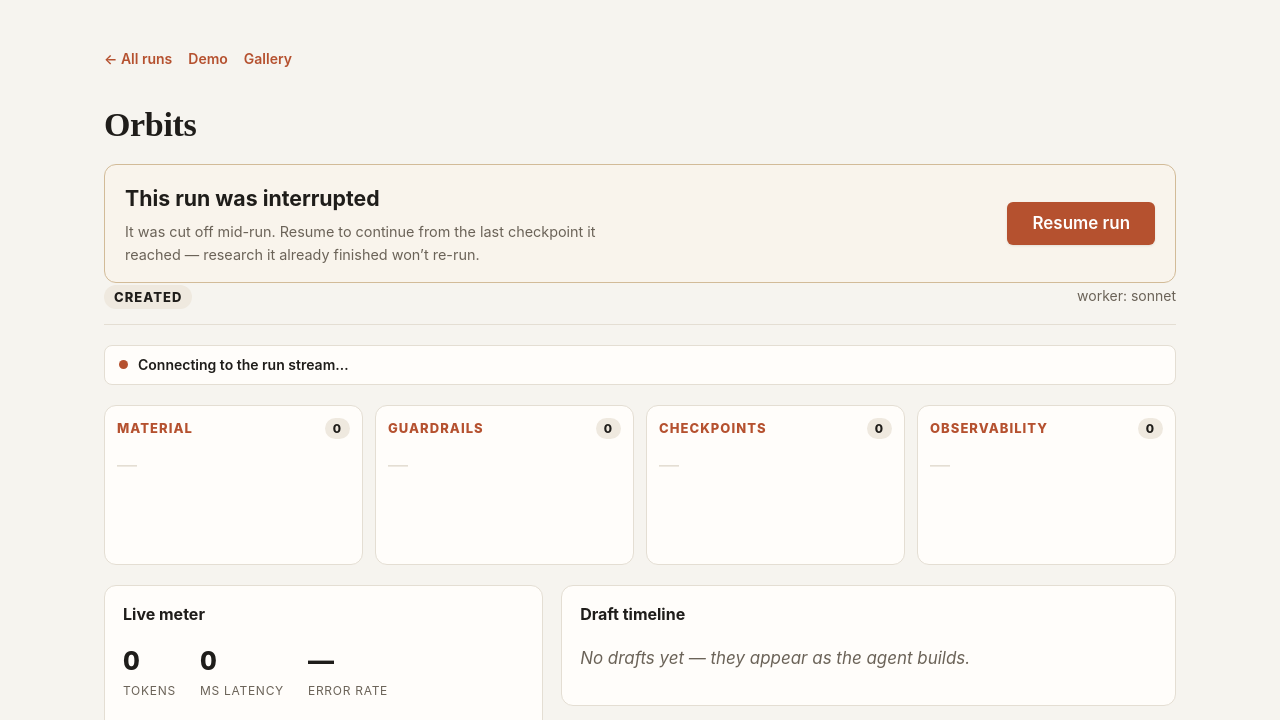
RunDetailPage › should offer Resume for an interrupted run and POST resume on click (publisher-kgv)
The image size is (1280, 720).
Click the button "Resume run" at (1081, 224), box x1=1008 y1=202 x2=1155 y2=245
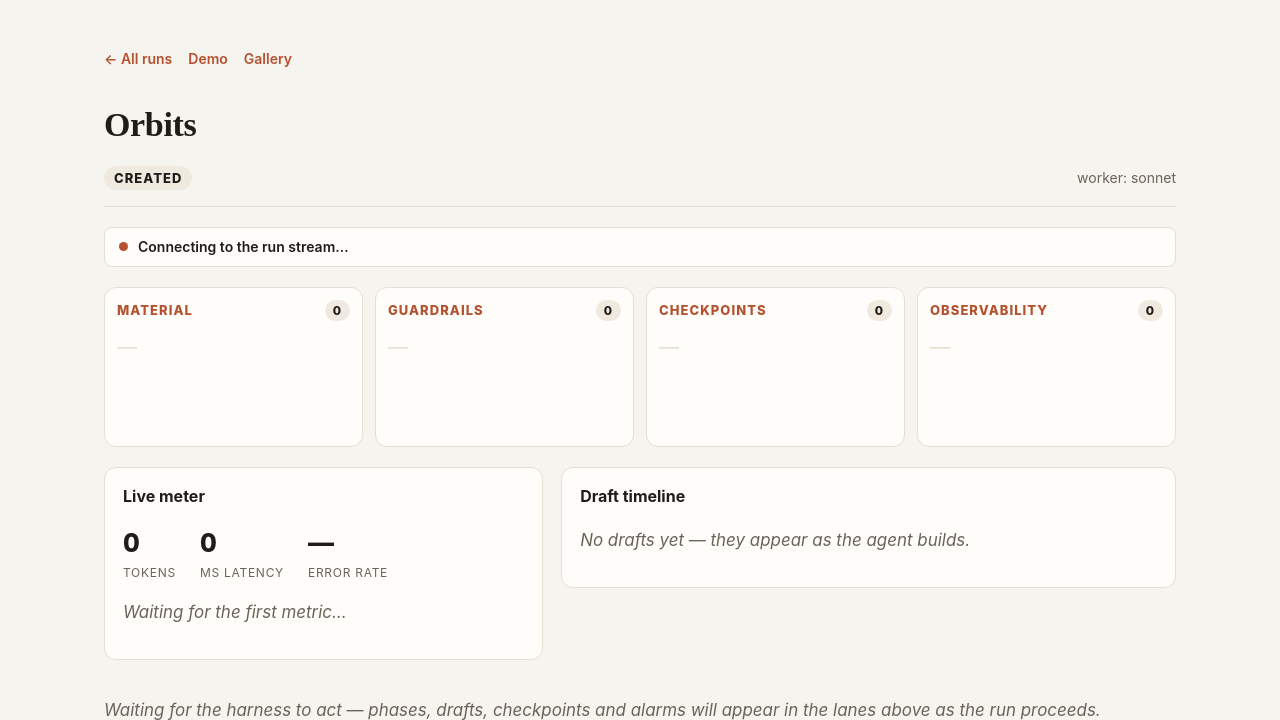
Expected: the button "Resume run" is gone
